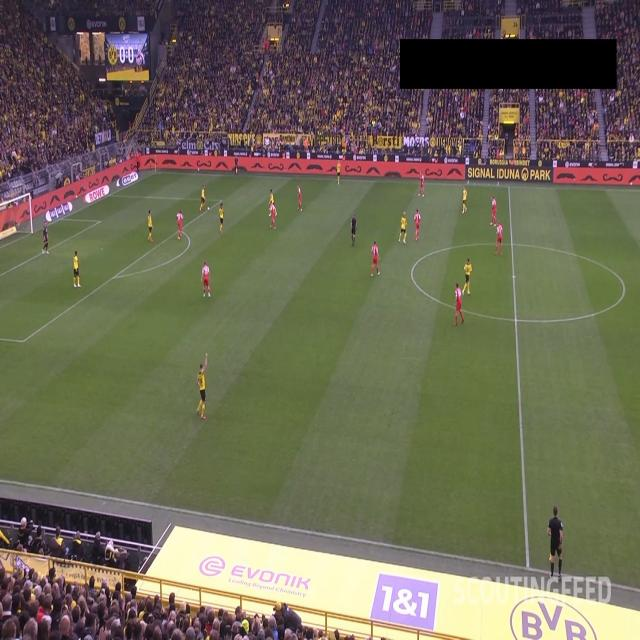ball: (203, 204, 210, 213)
f_player: (189, 346, 213, 427), (196, 254, 219, 307), (67, 242, 88, 298), (209, 194, 231, 240), (140, 204, 160, 252), (195, 177, 215, 224), (450, 282, 468, 329), (172, 204, 188, 247), (368, 238, 382, 284), (264, 198, 281, 233), (462, 253, 474, 300), (492, 217, 504, 257), (412, 208, 424, 246), (488, 190, 500, 228), (397, 208, 408, 246), (294, 181, 305, 217), (416, 171, 428, 202), (265, 184, 276, 217), (460, 186, 470, 217), (333, 160, 344, 188)
umpire: (541, 503, 568, 585), (348, 210, 359, 250)
